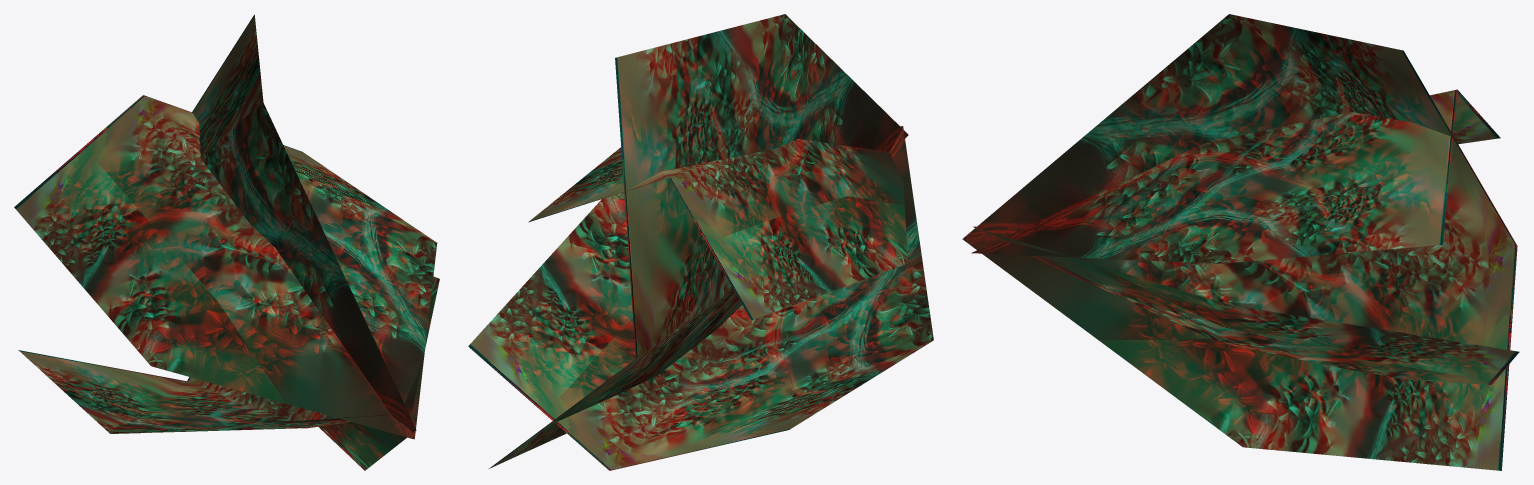
Rendered from Bush_06_02.fbx.
The picture shows the model from 3 angles, left to right: view 1: azimuth 30°, elevation 25°; view 2: azimuth 150°, elevation 25°; view 3: azimuth 270°, elevation 25°; orthographic projection. The views are drawn at different scales.
Visible parts, largest first — view 1: Bush_06_02; view 2: Bush_06_02; view 3: Bush_06_02.
Boxes of the visible parts, <box> form: Bush_06_02: <box>14,14,439,470</box>; Bush_06_02: <box>468,14,933,470</box>; Bush_06_02: <box>962,14,1519,470</box>.
Size of the model in its own units: 1.91 by 2.24 by 2.95.
